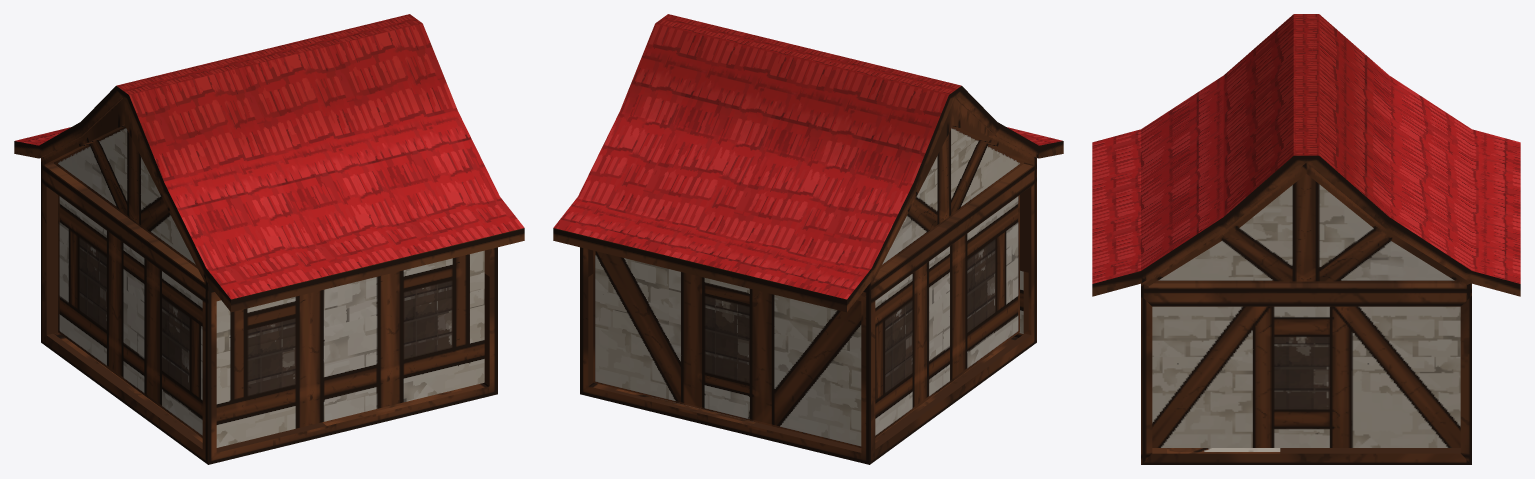
File: Connector.fbx
The picture shows the model from 3 angles, left to right: view 1: azimuth 30°, elevation 25°; view 2: azimuth 150°, elevation 25°; view 3: azimuth 270°, elevation 25°; orthographic projection.
Parts seen in each view (by area): view 1: House Base 4a; view 2: House Base 4a; view 3: House Base 4a.
Part boxes in pixels (<box>): House Base 4a: <box>14,14,524,464</box>; House Base 4a: <box>553,14,1063,464</box>; House Base 4a: <box>1092,14,1520,464</box>.
Size of the model in its own units: 302 by 308 by 386.
